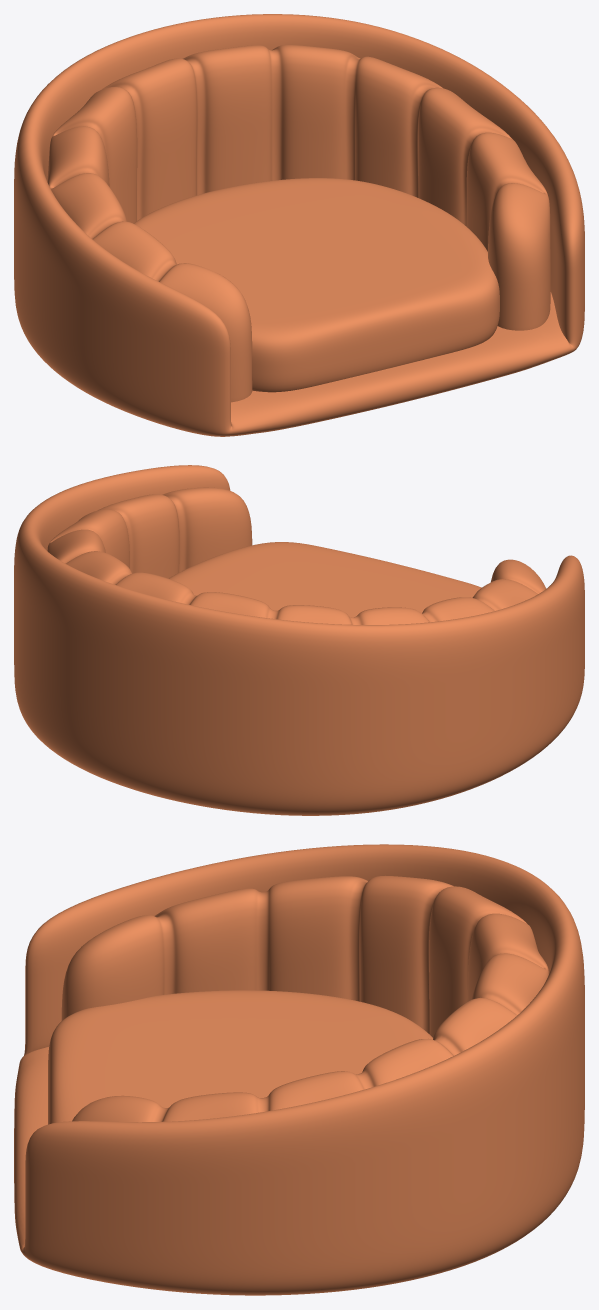
File: sofa3coklat.glb
3 views of the same model, one above another, from view 1: azimuth 30°, elevation 25°; view 2: azimuth 150°, elevation 25°; view 3: azimuth 270°, elevation 25° (orthographic). The views are drawn at different scales.
Visible parts, largest first — view 1: Cube.001, Cube, Cube.002; view 2: Cube, Cube.001, Cube.002; view 3: Cube, Cube.001, Cube.002.
Part boxes in pixels (bbox=[...]): Cube.001: bbox=[47, 45, 550, 402]; Cube: bbox=[14, 14, 584, 436]; Cube.002: bbox=[133, 178, 499, 392]; Cube: bbox=[14, 465, 584, 815]; Cube.001: bbox=[47, 487, 546, 624]; Cube.002: bbox=[169, 542, 481, 617]; Cube: bbox=[14, 844, 584, 1295]; Cube.001: bbox=[61, 875, 548, 1122]; Cube.002: bbox=[48, 990, 432, 1124].
Size of the model in its own units: 0.9235 by 0.374 by 0.8176.
